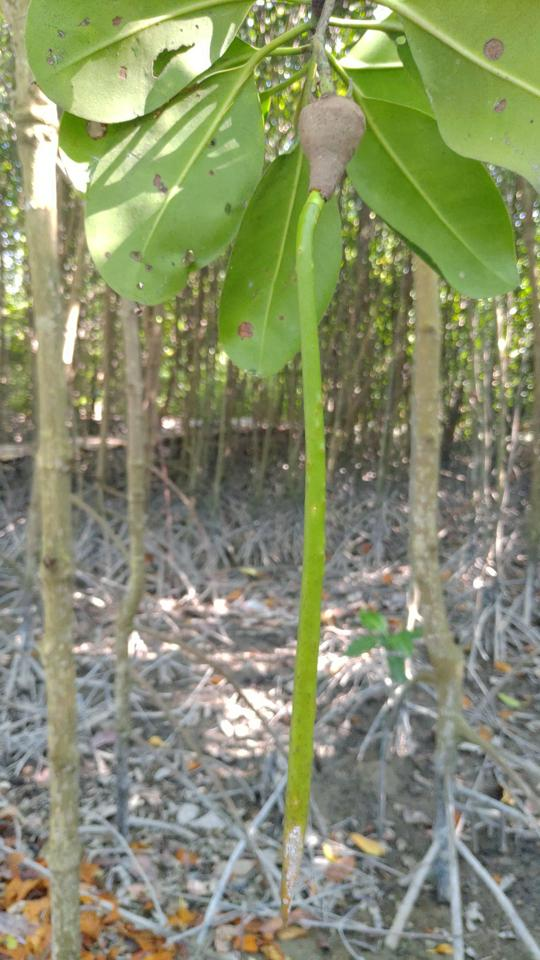setengah matang: (260, 75, 374, 937)
